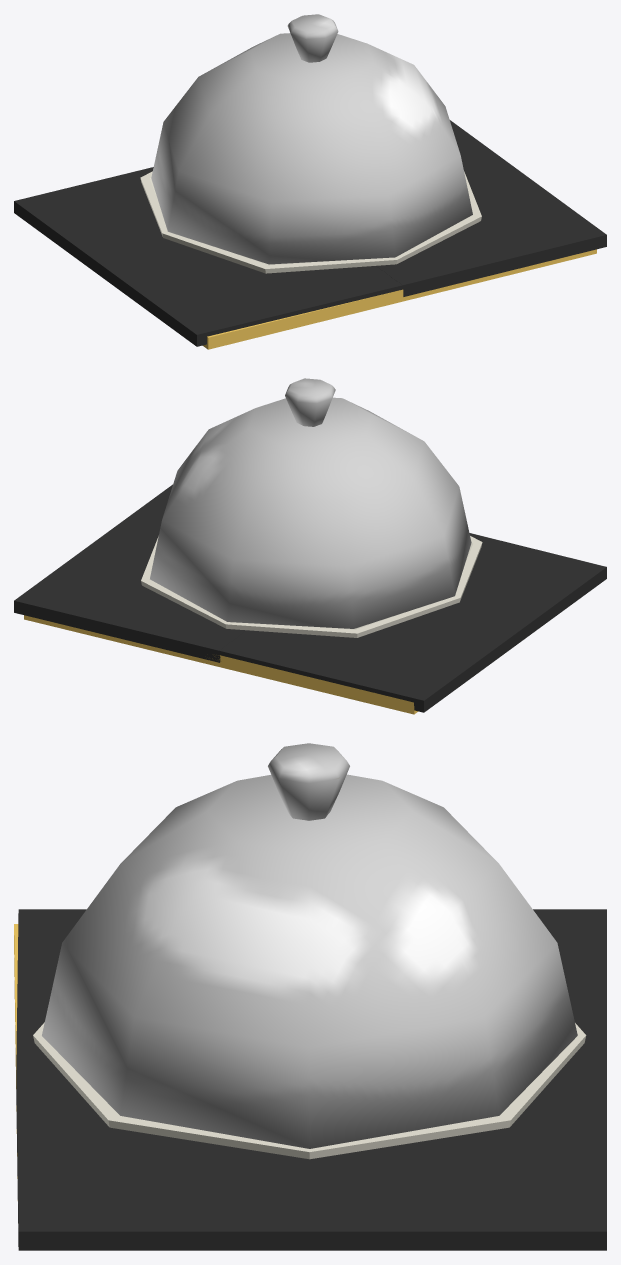
The model's file is Station_Serving.fbx.
3 renders of one model, top to bottom at view 1: azimuth 30°, elevation 25°; view 2: azimuth 150°, elevation 25°; view 3: azimuth 270°, elevation 25°, orthographic. The views are drawn at different scales.
Parts seen in each view (by area): view 1: PlateDome, PlateDoor1, PlateDoor2, Plate, PlateBase; view 2: PlateDome, PlateDoor1, PlateDoor2, Plate, PlateBase; view 3: PlateDome, PlateDoor2, PlateDoor1, Plate.
Boxes of the visible parts, box(x1,y1,x2,y2) form: PlateDome: box(151, 14, 472, 264); PlateDoor1: box(14, 167, 402, 346); PlateDoor2: box(376, 120, 606, 296); Plate: box(140, 171, 481, 273); PlateBase: box(203, 249, 596, 349); PlateDome: box(150, 378, 471, 628); PlateDoor1: box(219, 533, 606, 712); PlateDoor2: box(14, 484, 246, 662); Plate: box(141, 536, 482, 637); PlateBase: box(24, 615, 418, 714); PlateDome: box(42, 743, 577, 1148); PlateDoor2: box(16, 1070, 606, 1250); PlateDoor1: box(16, 909, 606, 1070); Plate: box(33, 1022, 586, 1159).
Bounding box in the file's own units: 27.34 × 13.49 × 21.28.
